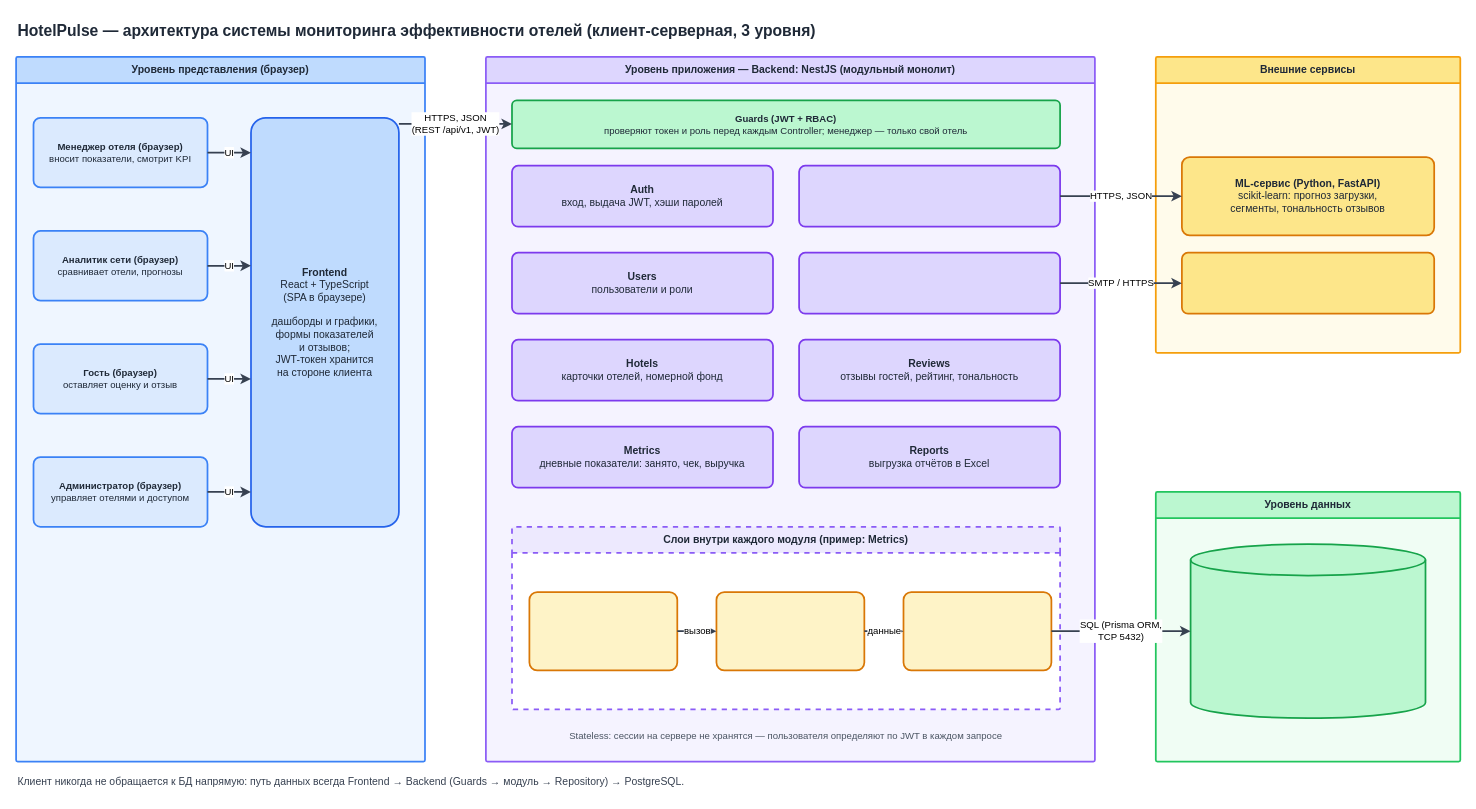
Some shapes in this 1476 by 809 pixel diagram are drawn without their labels. The shapes that lost their labels are listed below. From the top down, each one's centre as x and y in pixels, then its label:
(929,195): Analytics KPI, сезонность, сравнение отелей
(929,282): Notifications пороговые оповещения менеджеру
(1308,282): Почтовый сервис (SMTP) письма о нарушении порогов
(603,631): Controller принимает HTTP-запрос, проверяет формат (DTO)
(790,631): Service бизнес-логика: расчёт загрузки и RevPAR
(977,631): Repository (Prisma ORM) запросы к БД, транзакции
(1307,631): PostgreSQL users · hotels daily_metrics · reviews alert_rules · alerts
